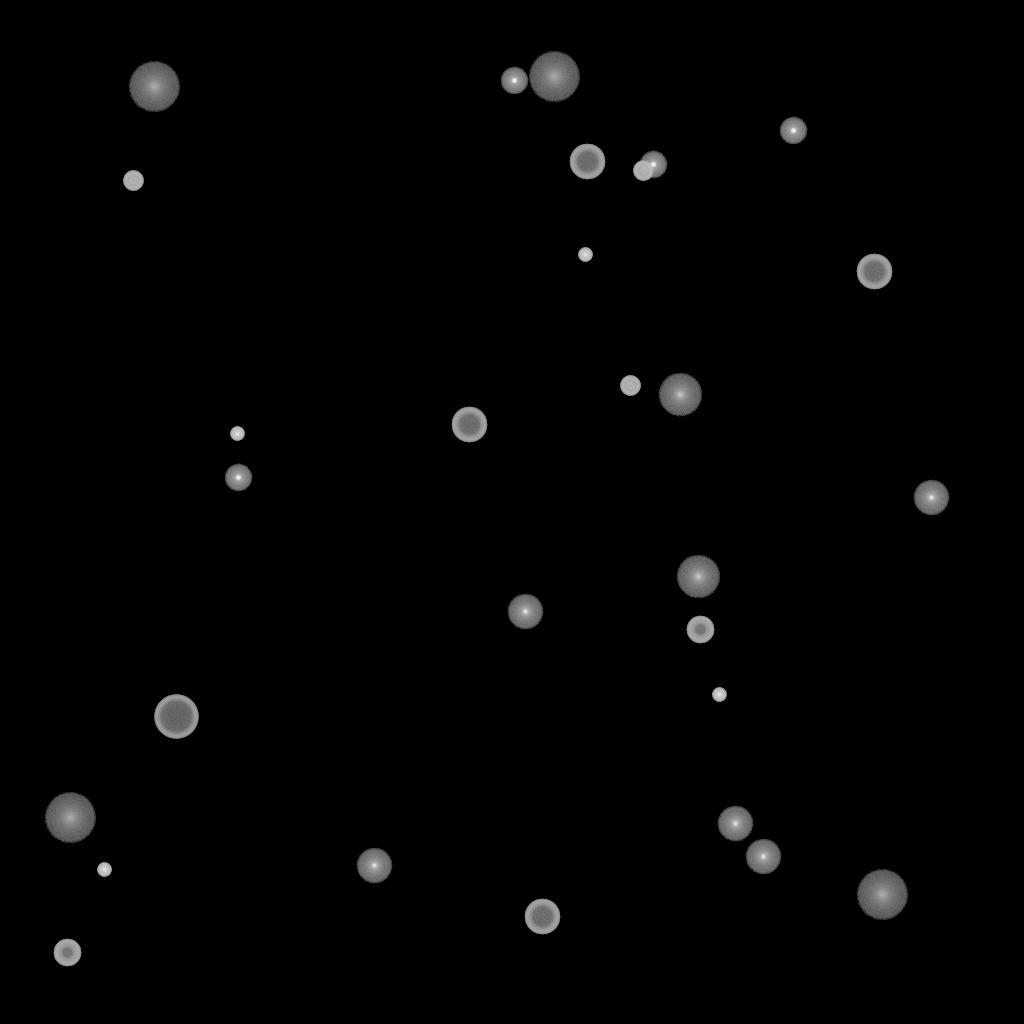depth:-10: (639, 151, 667, 179), (224, 464, 252, 492), (500, 67, 528, 95), (779, 117, 807, 145)
depth:-30: (230, 427, 244, 441), (97, 863, 111, 877), (712, 688, 726, 702), (578, 248, 592, 262)
depth:-40: (620, 376, 640, 396), (123, 171, 143, 191), (633, 161, 653, 181)
depth:-50: (686, 616, 714, 644), (53, 939, 81, 967)
depth:-60: (569, 144, 605, 180), (451, 407, 487, 443), (856, 254, 892, 290), (524, 899, 560, 935)
depth:-70: (154, 695, 198, 739)
depth:0: (745, 839, 781, 875), (717, 806, 753, 842), (356, 848, 392, 884), (913, 480, 949, 516), (507, 594, 543, 630)
depth:10: (676, 555, 720, 599), (658, 373, 702, 417)
depth:20: (128, 62, 180, 112), (856, 870, 908, 920), (44, 793, 96, 843), (528, 52, 580, 102)
